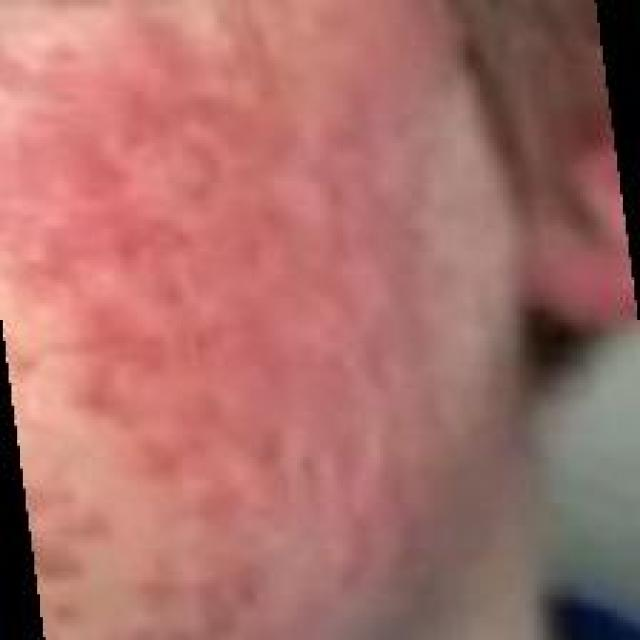others: (0, 6, 637, 617)
